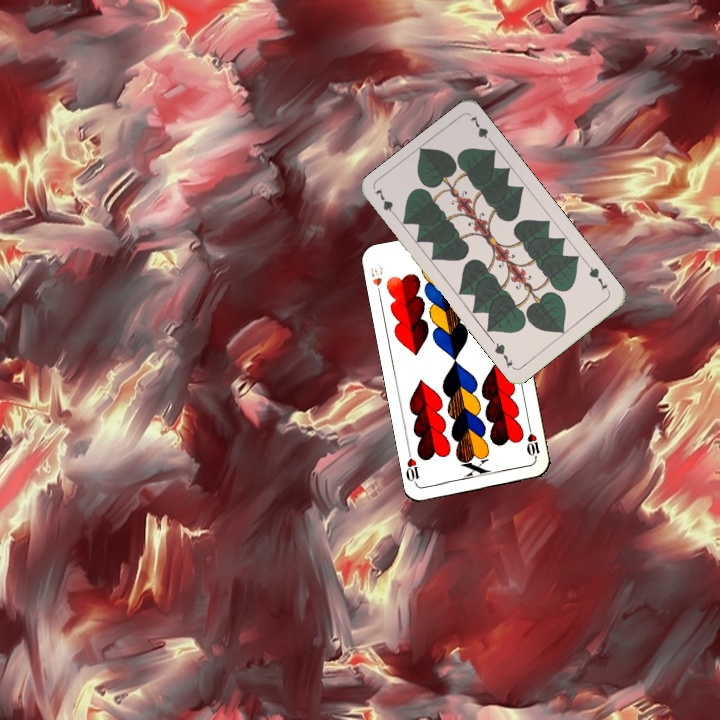G7: (371, 184, 401, 222), (583, 260, 612, 295)
H10: (522, 422, 543, 463), (366, 260, 386, 300)
